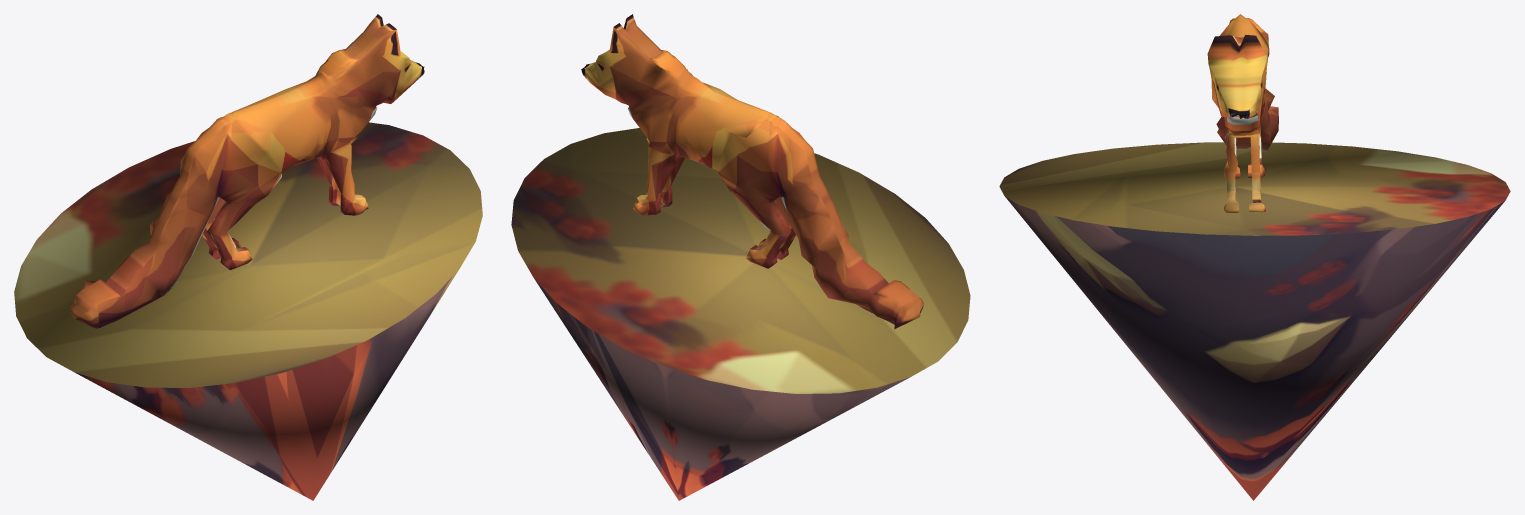
File: smoothfox.glb
The picture shows the model from 3 angles, left to right: view 1: azimuth 30°, elevation 25°; view 2: azimuth 150°, elevation 25°; view 3: azimuth 270°, elevation 25°; orthographic projection. The views are drawn at different scales.
Visible parts, largest first — view 1: Plane.001; view 2: Plane.001; view 3: Plane.001.
Part boxes in pixels (left/top/right/bottom): Plane.001: left=14, top=14, right=482, bottom=500; Plane.001: left=511, top=14, right=970, bottom=500; Plane.001: left=999, top=14, right=1510, bottom=500.
Bounding box in the file's own units: 1.94 × 2.16 × 2.
Materials: 2 (2 with a texture image).
